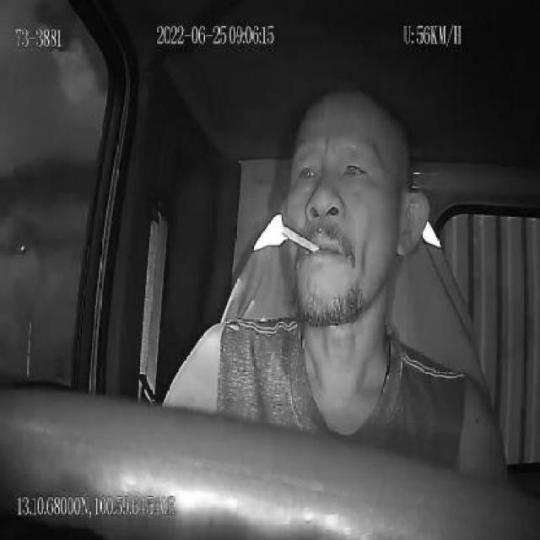smoking: (270, 218, 322, 253)
